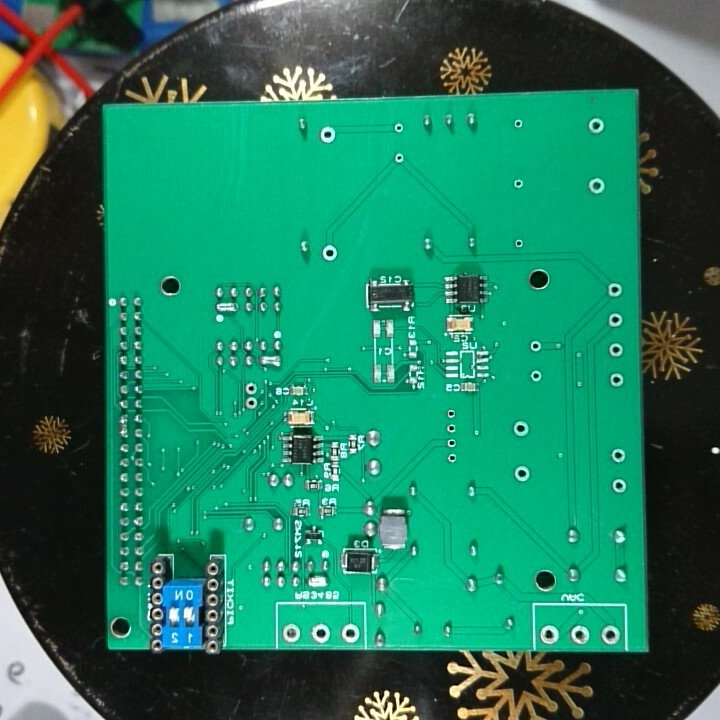F: (567, 622, 592, 646), (511, 416, 533, 440), (538, 623, 561, 645), (339, 622, 362, 644), (309, 622, 332, 644), (318, 124, 340, 146), (599, 622, 619, 646), (586, 175, 607, 197), (605, 307, 626, 329), (279, 620, 304, 638), (586, 115, 606, 137), (609, 446, 631, 466), (320, 242, 340, 263), (606, 370, 627, 389), (605, 279, 625, 298), (606, 339, 624, 359), (610, 475, 628, 495), (242, 394, 262, 411), (528, 367, 546, 385), (527, 337, 545, 355), (513, 465, 532, 481), (242, 380, 261, 396), (510, 114, 526, 131), (445, 432, 460, 450), (512, 236, 527, 252), (445, 450, 460, 466), (392, 120, 406, 137), (444, 420, 462, 433), (512, 175, 527, 190), (392, 150, 406, 166), (445, 406, 458, 421)
P: (212, 299, 242, 317), (304, 572, 332, 590), (258, 351, 284, 369), (116, 413, 131, 438)
